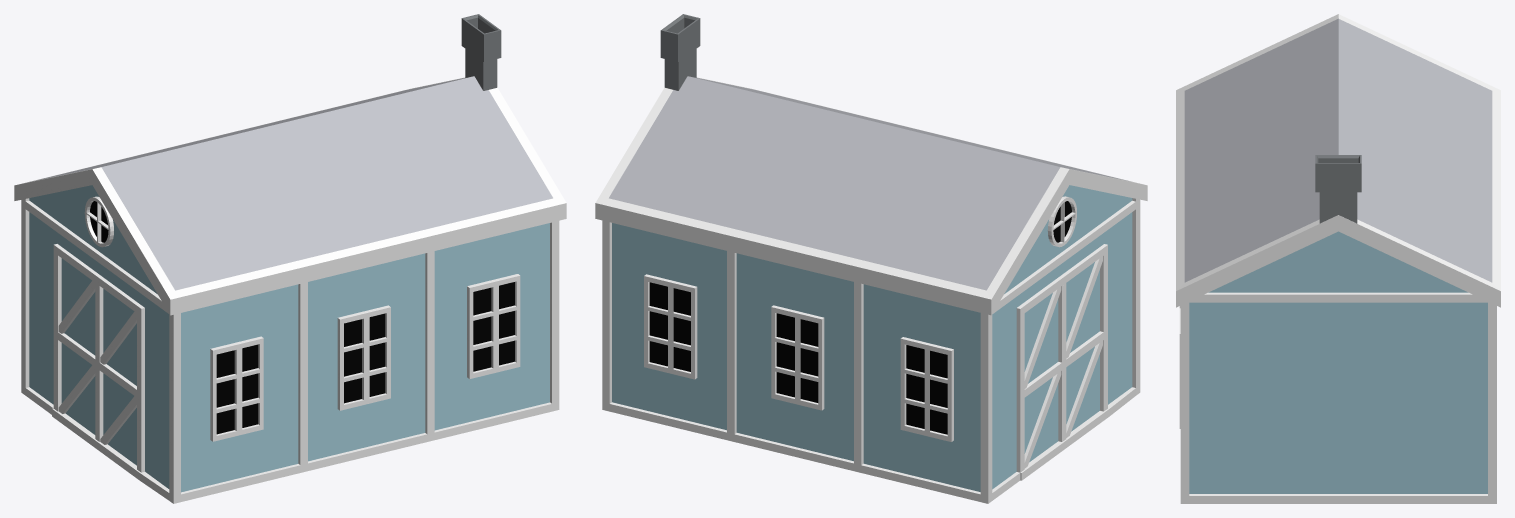
File: House(1).fbx
The picture shows the model from 3 angles, left to right: view 1: azimuth 30°, elevation 25°; view 2: azimuth 150°, elevation 25°; view 3: azimuth 270°, elevation 25°; orthographic projection. The views are drawn at different scales.
Visible parts, largest first — view 1: Cube.016; view 2: Cube.016; view 3: Cube.016.
Boxes of the visible parts, x1=… form: Cube.016: x1=14, y1=14, x2=566, y2=503; Cube.016: x1=595, y1=14, x2=1147, y2=503; Cube.016: x1=1176, y1=14, x2=1500, y2=503.
Bounding box in the file's own units: 628 × 499 × 427.
